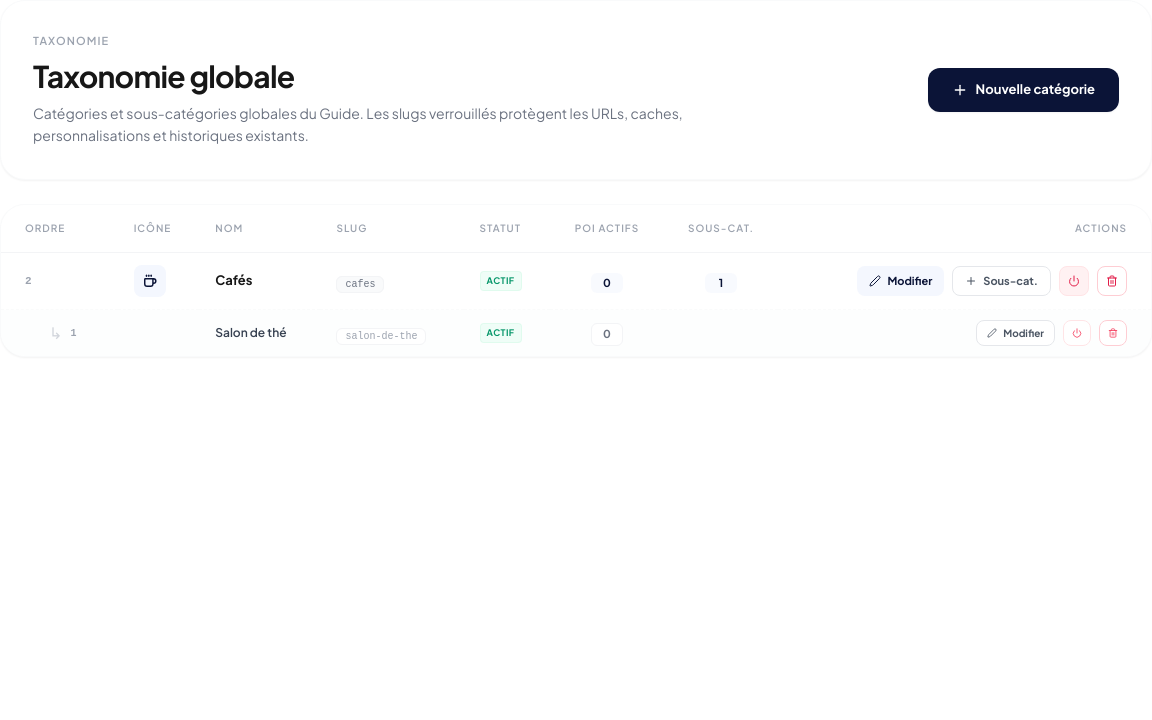
Test: 074 AC-02-01 — confirmation de suppression › sous-catégorie : images remontées dans la catégorie
Click the button named "Supprimer Salon de thé": [1113, 333] box [1099, 320, 1127, 346]
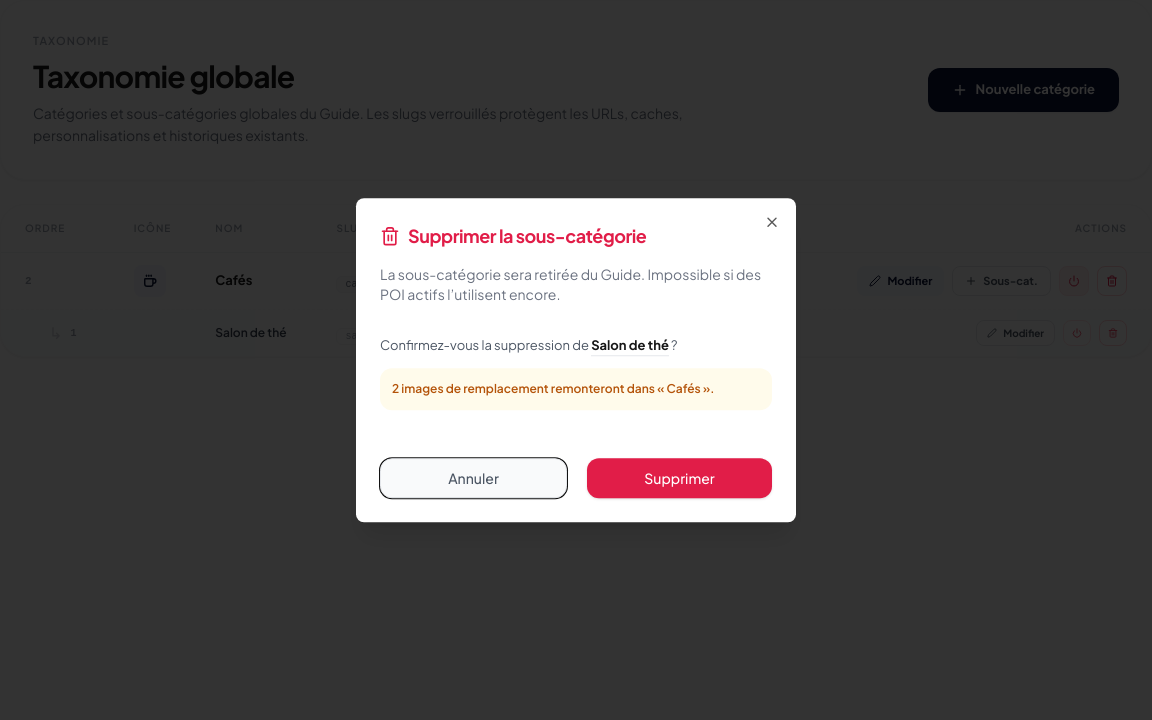
Result: the text "2 images de remplacement remonteront dans « Cafés »." is shown at [380, 368, 772, 410]
